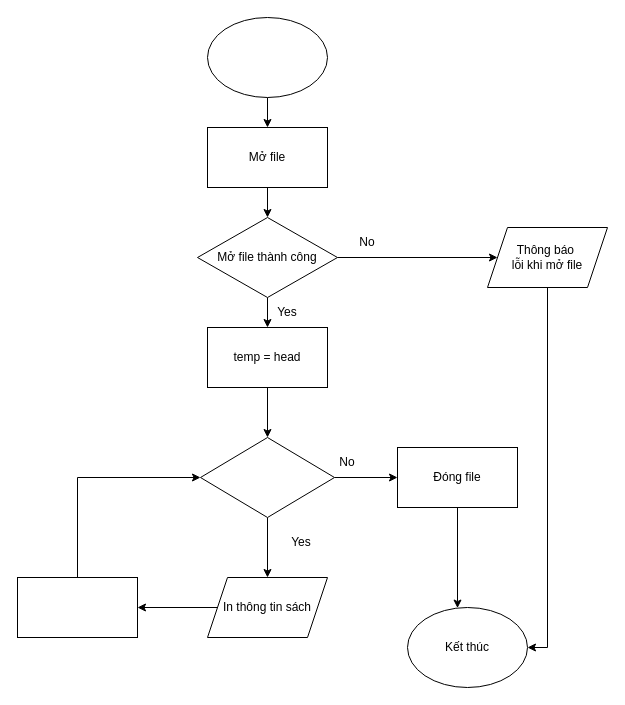
Some shapes in this 625 by 705 pixel diagram are drawn without their labels. Each missing label, with the box of its shape:
Begin: (206, 16, 328, 98)
temp != NULL: (200, 436, 334, 518)
temp = temp->Next: (16, 576, 138, 638)
